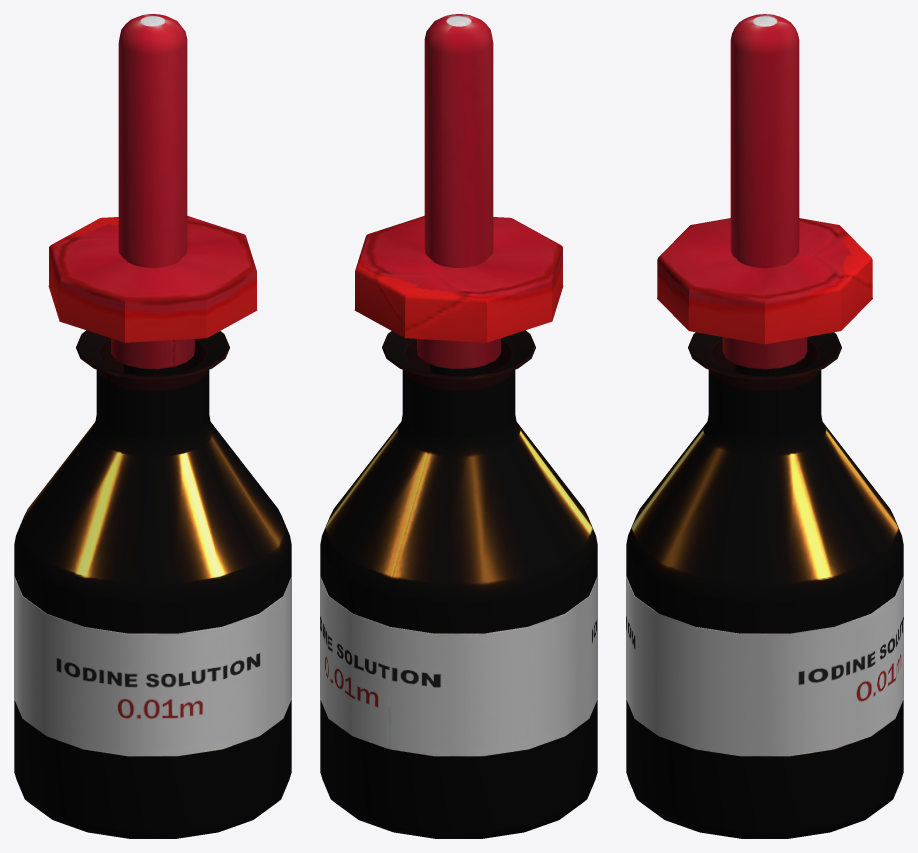
File: IodineBottle_Geo.fbx
The picture shows the model from 3 angles, left to right: view 1: azimuth 30°, elevation 25°; view 2: azimuth 150°, elevation 25°; view 3: azimuth 270°, elevation 25°; orthographic projection.
Visible parts, largest first — view 1: IodineBottle.001, polySurface2; view 2: IodineBottle.001, polySurface2; view 3: IodineBottle.001, polySurface2.
Boxes of the visible parts, x1=… form: IodineBottle.001: x1=14, y1=330, x2=291, y2=838; polySurface2: x1=48, y1=14, x2=257, y2=369; IodineBottle.001: x1=320, y1=330, x2=597, y2=838; polySurface2: x1=354, y1=14, x2=563, y2=369; IodineBottle.001: x1=626, y1=332, x2=903, y2=838; polySurface2: x1=657, y1=14, x2=872, y2=369.
Bounding box in the file's own units: 5.77 × 17.81 × 5.86.
2 materials, 2 textured.
